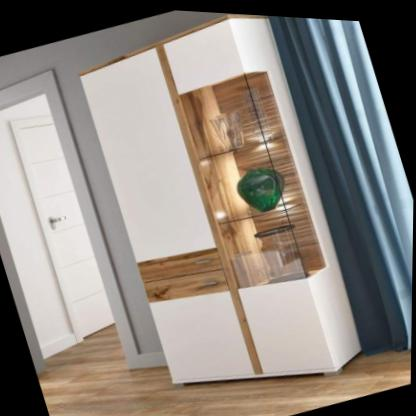Cupboard: (76, 12, 363, 384)
